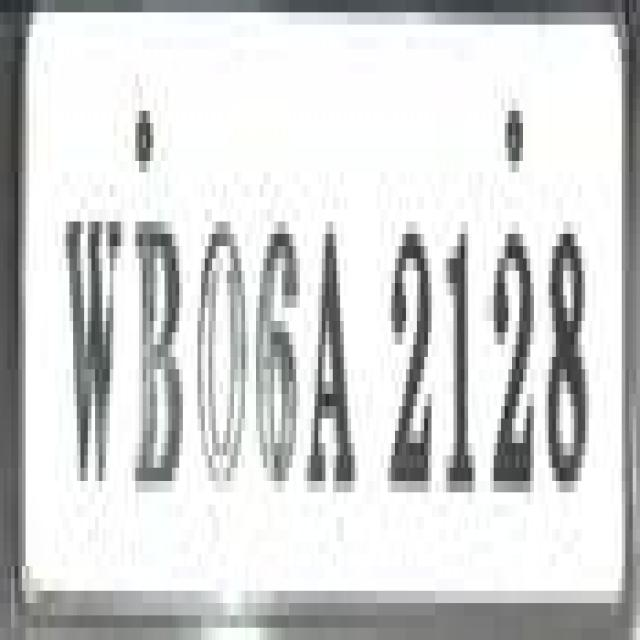license_plate: (0, 24, 621, 640)
